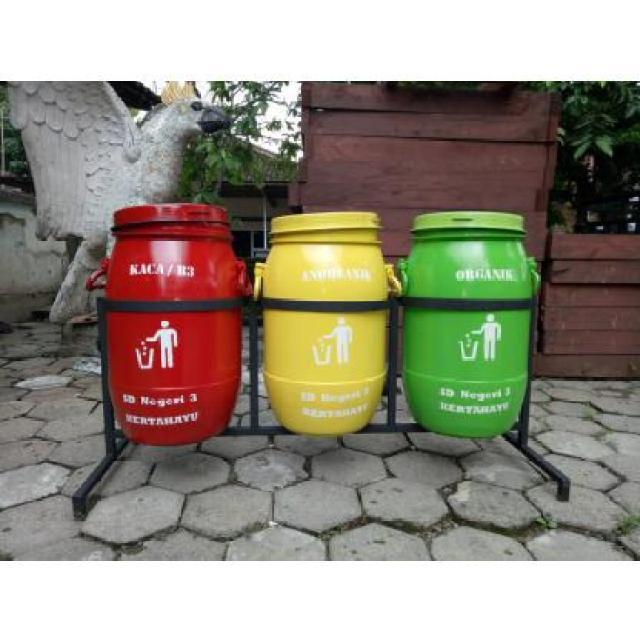garbage container: (387, 206, 548, 463), (94, 201, 253, 450), (250, 206, 399, 454)
